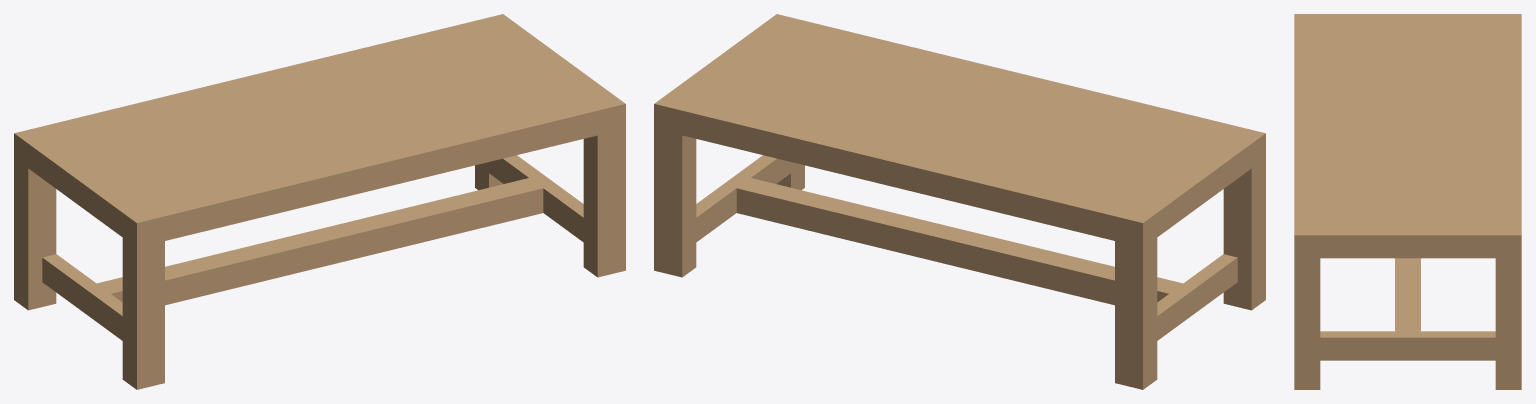
Rendered from table-dining-8.glb.
3 views of the same model, side by side, from view 1: azimuth 30°, elevation 25°; view 2: azimuth 150°, elevation 25°; view 3: azimuth 270°, elevation 25° (orthographic). The views are drawn at different scales.
Visible parts, largest first — view 1: table-dining-8; view 2: table-dining-8; view 3: table-dining-8.
Boxes of the visible parts, x1,y1,x2,y2 form: table-dining-8: (14, 14, 625, 389); table-dining-8: (654, 14, 1265, 389); table-dining-8: (1294, 14, 1521, 389).
Bounding box in the file's own units: 2.3 × 0.75 × 1.
